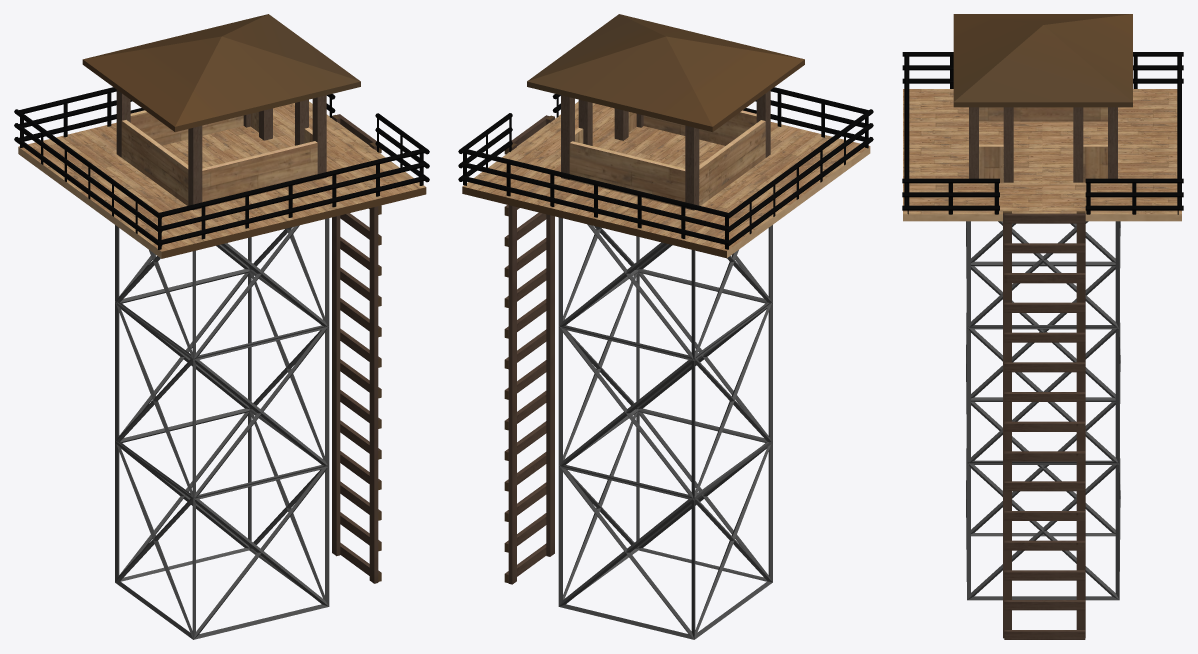
The model's file is SM_Bld_WatchTower.fbx.
3 renders of one model, left to right at view 1: azimuth 30°, elevation 25°; view 2: azimuth 150°, elevation 25°; view 3: azimuth 270°, elevation 25°, orthographic. The views are drawn at different scales.
Visible parts, largest first — view 1: atalaya; view 2: atalaya; view 3: atalaya.
Boxes of the visible parts, left/top/right/bottom form: atalaya: left=14, top=14, right=429, bottom=639; atalaya: left=458, top=14, right=873, bottom=639; atalaya: left=902, top=14, right=1183, bottom=639.
Bounding box in the file's own units: 6.2 × 12.14 × 5.65.
2 materials, 2 textured.
